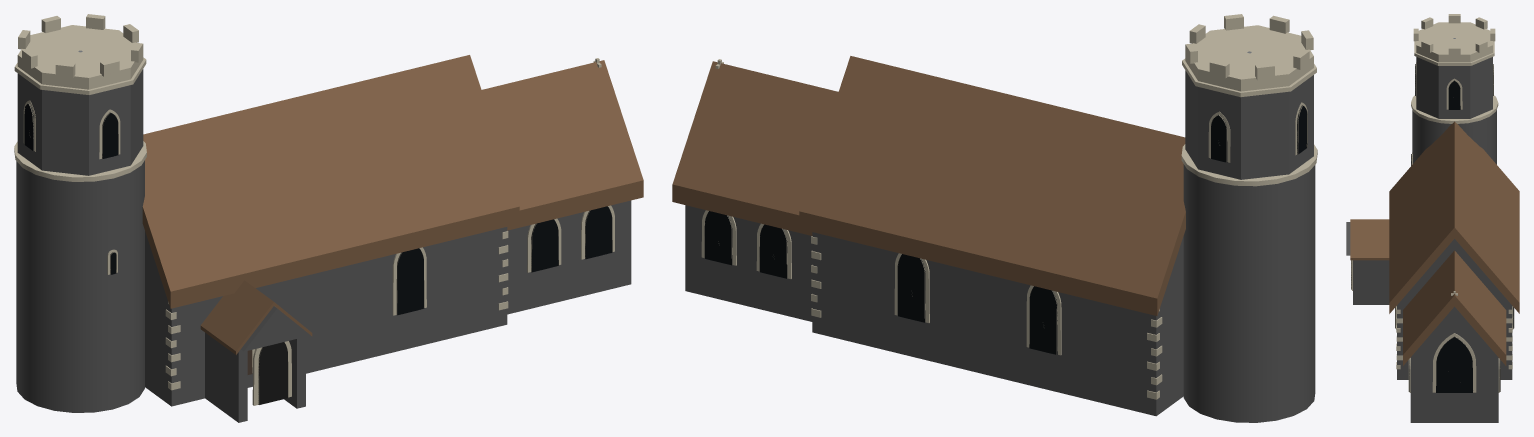
The model's file is context.church.ea_round_thatch.glb.
3 renders of one model, left to right at view 1: azimuth 30°, elevation 25°; view 2: azimuth 150°, elevation 25°; view 3: azimuth 270°, elevation 25°, orthographic. The views are drawn at different scales.
Visible parts, largest first — view 1: main__fabric_764, main__stone_555, main__stone_cba, main__glass_dark, main__timber_111, main__stone_987; view 2: main__fabric_764, main__stone_555, main__stone_cba, main__glass_dark, main__stone_987; view 3: main__fabric_764, main__stone_555, main__stone_cba, main__glass_dark, main__stone_987.
Part boxes in pixels (x1,y1,x2,y2): main__fabric_764: (142, 55, 643, 354); main__stone_555: (16, 69, 631, 422); main__stone_cba: (14, 14, 614, 405); main__glass_dark: (24, 103, 612, 315); main__timber_111: (258, 342, 287, 404); main__stone_987: (24, 103, 612, 404); main__fabric_764: (672, 56, 1185, 315); main__stone_555: (685, 70, 1315, 422); main__stone_cba: (701, 14, 1317, 399); main__glass_dark: (704, 105, 1307, 354); main__stone_987: (704, 105, 1307, 354); main__fabric_764: (1350, 121, 1519, 365); main__stone_555: (1346, 57, 1512, 422); main__stone_cba: (1352, 14, 1513, 392); main__glass_dark: (1395, 64, 1513, 392); main__stone_987: (1351, 64, 1514, 391).
Size of the model in its own units: 25.98 by 14.75 by 10.25.
